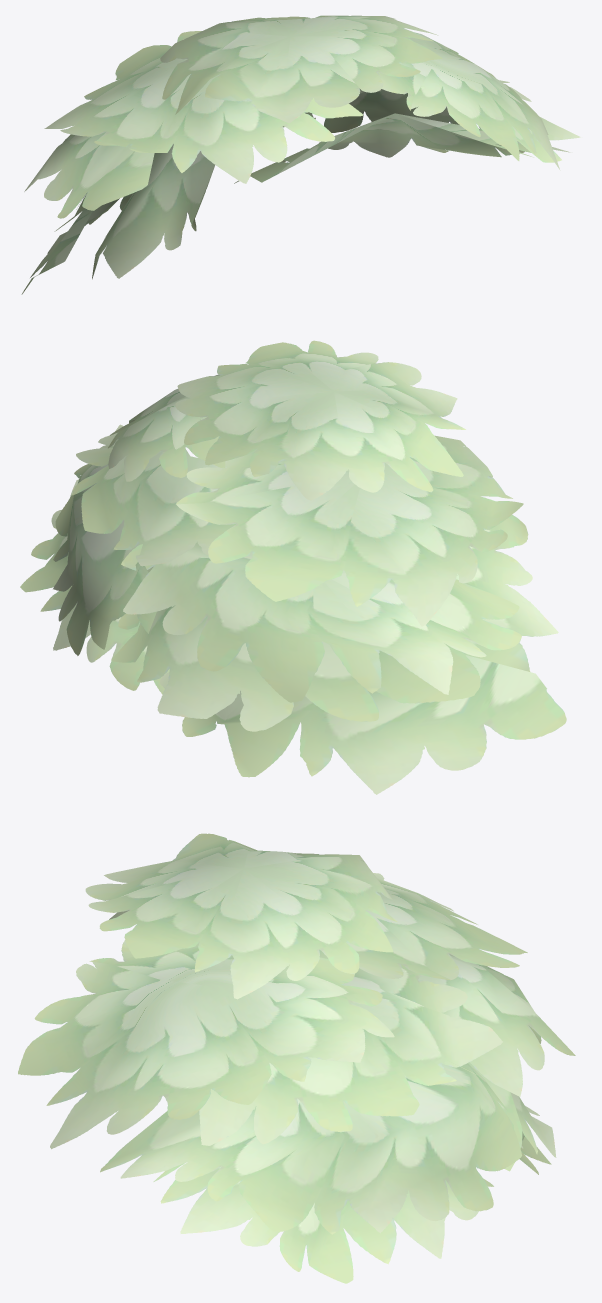
File: FarmEmptyBushLarge.fbx
3 views of the same model, one above another, from view 1: azimuth 30°, elevation 25°; view 2: azimuth 150°, elevation 25°; view 3: azimuth 270°, elevation 25° (orthographic). The views are drawn at different scales.
Visible parts, largest first — view 1: Bush; view 2: Bush; view 3: Bush.
Part boxes in pixels (x1,y1,x2,y2): Bush: (21,15,580,294); Bush: (20,340,566,794); Bush: (18,833,575,1283).
Size of what is drawn, in the model's own units: 3.1 by 1.49 by 2.32.
Materials: 1 (1 with a texture image).
